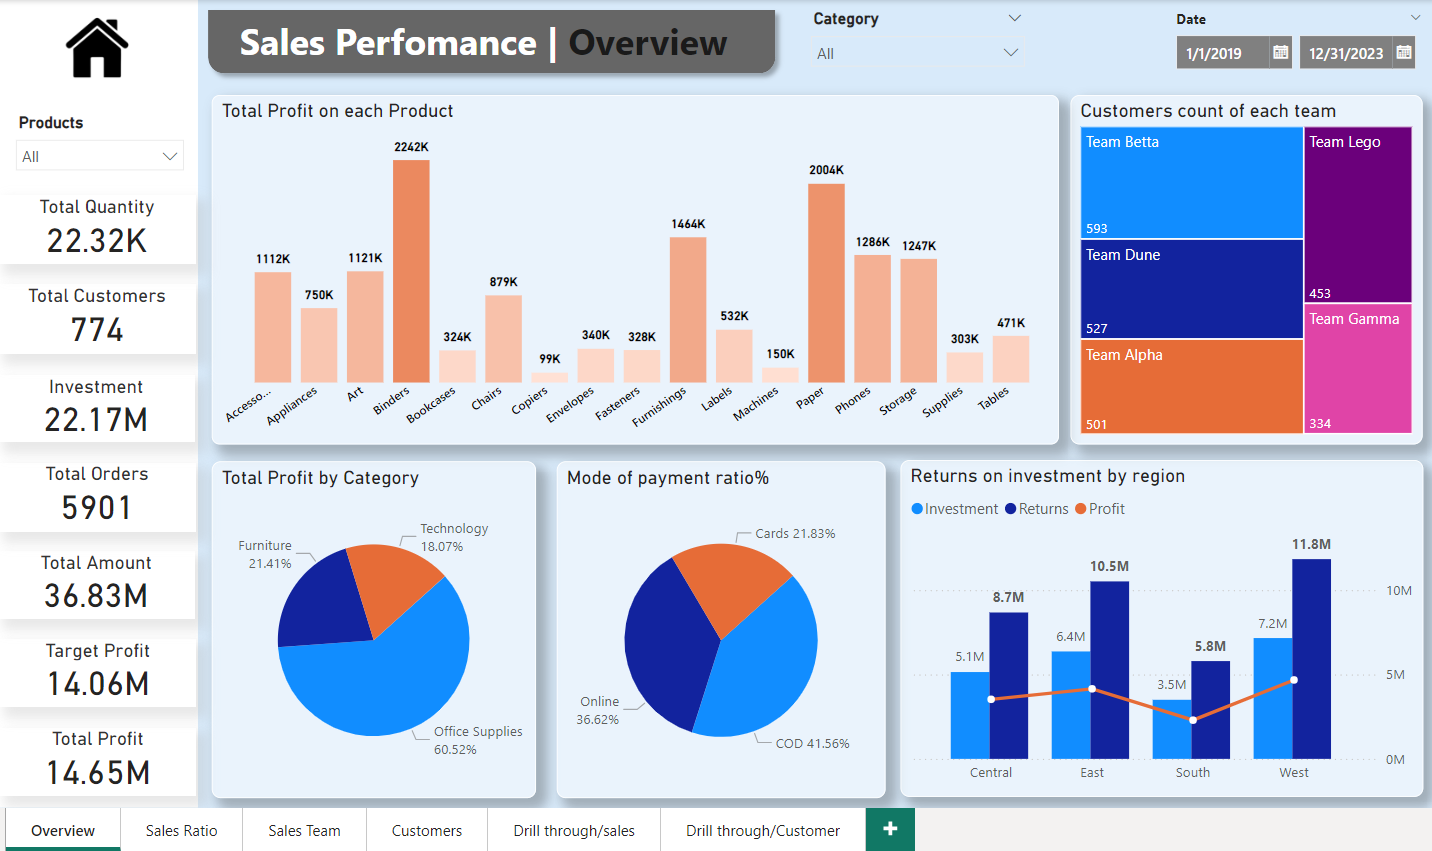

Layout of this report page (visuals, bound fields, positions):
{"tool":"powerbi","page":{"name":"Overview","canvas":[1280,720],"ordinal":0},"visuals":[{"type":"shape","box":[178.1,0,523,74.3],"z":0},{"type":"shape","box":[0,0,178.1,719.4],"z":1000},{"type":"card","title":"Total Orders","fields":{"Values":["f-sales data.Total Orders"]},"box":[0,411.7,176.1,61.5],"z":2000},{"type":"card","title":"Total Customers","fields":{"Values":["f-sales data.Total Customers"]},"box":[0,253,176.1,62.7],"z":3000},{"type":"card","title":"Investment","fields":{"Values":["f-sales data.Company Cost"]},"box":[0,333.6,174.9,60.3],"z":4000},{"type":"card","title":"Total Amount","fields":{"Values":["f-sales data.Total Amount"]},"box":[0,491,174.9,60.3],"z":5000},{"type":"card","title":"Total Profit","fields":{"Values":["f-sales data.Total Proit"]},"box":[1.4,647.9,175.3,61],"z":6000},{"type":"card","title":"Target Profit","fields":{"Values":["Sum(d-target sale.Target Profit)"]},"box":[1.4,569.1,175.3,61],"z":7000},{"type":"slicer","fields":{"Values":["d-target sale.Products"]},"box":[6,95.3,170.1,63.9],"z":8000},{"type":"textbox","box":[210.3,9.8,468.4,54.7],"z":9000},{"type":"columnChart","title":"Total Profit on each Product","fields":{"Category":["f-sales data.Sub-Category"],"Y":["f-sales data.Total Profit"]},"box":[190.6,84.5,754,311.3],"z":10000},{"type":"pieChart","fields":{"Category":["f-sales data.Category"],"Y":["f-sales data.Total Profit"]},"box":[190.7,410.9,288.9,300.1],"z":11000},{"type":"treemap","title":"Customers count of each team","fields":{"Group":["d-sales team.Team Name"],"Values":["f-sales data.Total Customers"]},"box":[955.5,84.5,313.7,311.3],"z":12000},{"type":"pieChart","title":"Mode of payment ratio%","fields":{"Category":["f-sales data.Payment Mode"],"Y":["f-sales data.Total Amount"]},"box":[497.8,410.9,293.1,300.1],"z":13000},{"type":"card","title":"Total Quantity","fields":{"Values":["Sum(f-sales data.Quantity)"]},"box":[0,173.7,176.1,61.5],"z":14000},{"type":"lineClusteredColumnComboChart","title":"Returns on investment by region","fields":{"Category":["f-sales data.Region"],"Y":["f-sales data.Company Cost","f-sales data.Total Amount"],"Y2":["f-sales data.Total Profit"]},"box":[803.5,409.5,465.6,300.1],"z":15000},{"type":"slicer","title":"Pick Date","fields":{"Values":["f-sales data.Order Date"]},"box":[1036.3,3.6,243.7,74.8],"z":16000},{"type":"image","box":[36.2,0,103.8,84.5],"z":17000},{"type":"slicer","fields":{"Values":["f-sales data.Category"]},"box":[713,3.6,211.1,71.2],"z":18000}]}

Visuals, with their boxes on the page's 1280x720 design canvas (x1, y1, x2, y2). These are canvas units, not pixel positions in the 1432x851 screenshot, which may show the page scaled, cropped or inside an application window:
shape: (x1=178, y1=0, x2=701, y2=74)
shape: (x1=0, y1=0, x2=178, y2=719)
"Total Orders" card: (x1=0, y1=412, x2=176, y2=473)
"Total Customers" card: (x1=0, y1=253, x2=176, y2=316)
"Investment" card: (x1=0, y1=334, x2=175, y2=394)
"Total Amount" card: (x1=0, y1=491, x2=175, y2=551)
"Total Profit" card: (x1=1, y1=648, x2=177, y2=709)
"Target Profit" card: (x1=1, y1=569, x2=177, y2=630)
slicer - d-target sale.Products: (x1=6, y1=95, x2=176, y2=159)
textbox: (x1=210, y1=10, x2=679, y2=64)
"Total Profit on each Product" columnChart: (x1=191, y1=84, x2=945, y2=396)
pieChart - f-sales data.Category x f-sales data.Total Profit: (x1=191, y1=411, x2=480, y2=711)
"Customers count of each team" treemap: (x1=956, y1=84, x2=1269, y2=396)
"Mode of payment ratio%" pieChart: (x1=498, y1=411, x2=791, y2=711)
"Total Quantity" card: (x1=0, y1=174, x2=176, y2=235)
"Returns on investment by region" lineClusteredColumnComboChart: (x1=804, y1=410, x2=1269, y2=710)
"Pick Date" slicer: (x1=1036, y1=4, x2=1280, y2=78)
image: (x1=36, y1=0, x2=140, y2=84)
slicer - f-sales data.Category: (x1=713, y1=4, x2=924, y2=75)
